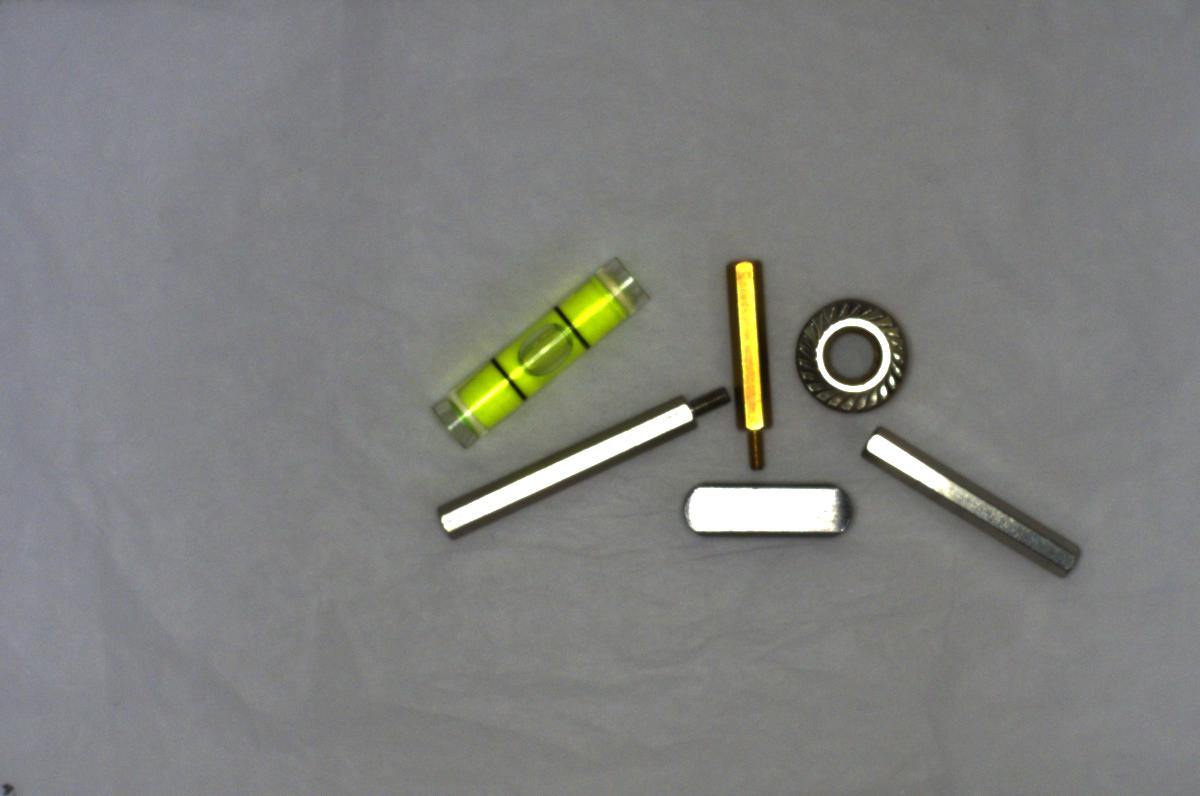Double hexagonal column: (856, 422, 1101, 583)
Flange nut: (789, 289, 912, 417)
Hexagon pillar: (723, 239, 782, 473)
Hexagonal steel column: (430, 377, 734, 544)
Horizontal bubble: (435, 248, 648, 450)
Keybar: (670, 467, 864, 550)
